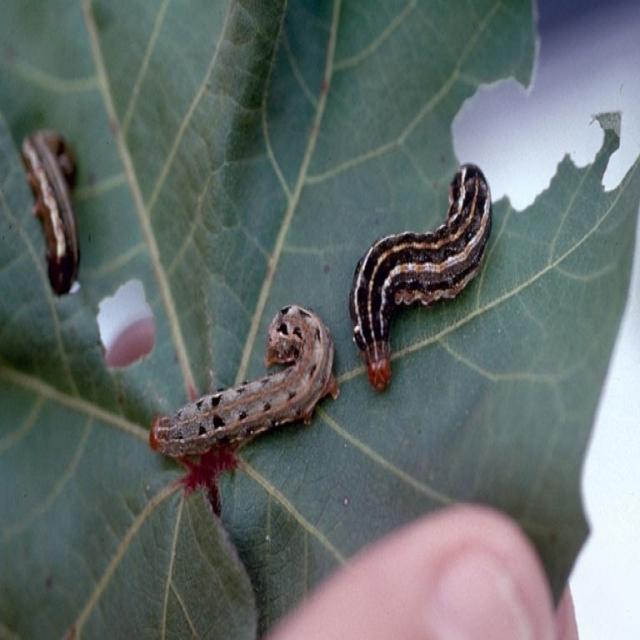armyworm: (348, 160, 492, 391), (148, 302, 340, 460), (19, 125, 81, 295)
